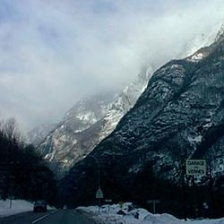neutral: (5, 111, 224, 222)
